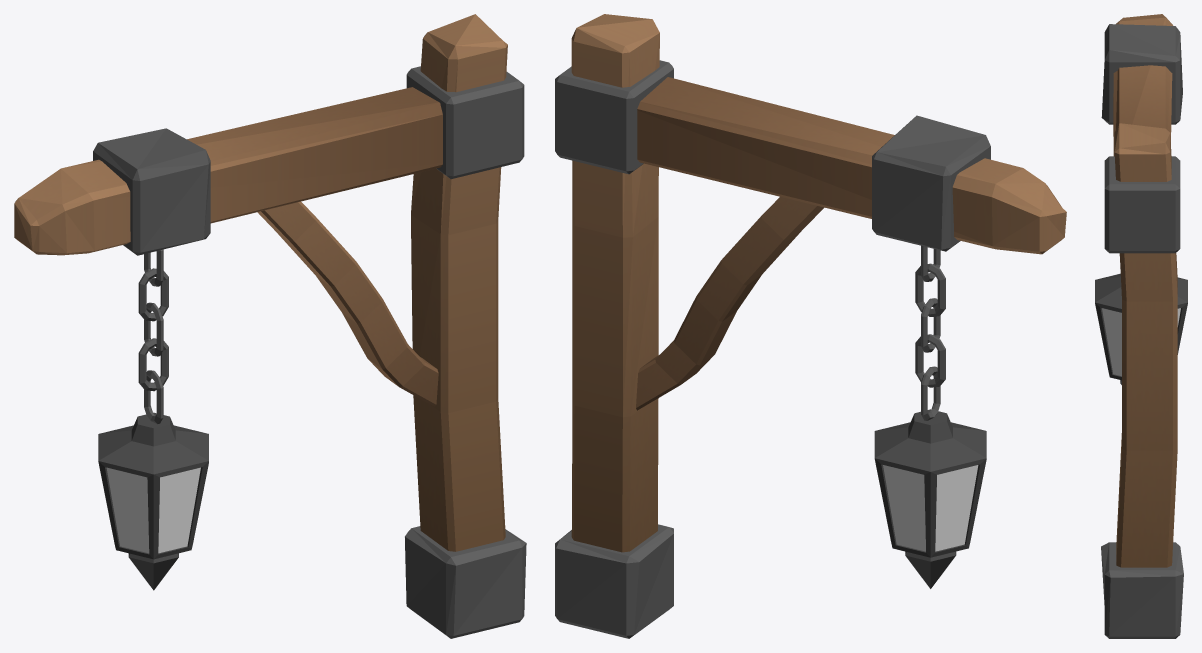
The model's file is ZLP_Build_E_3.FBX.
The picture shows the model from 3 angles, left to right: view 1: azimuth 30°, elevation 25°; view 2: azimuth 150°, elevation 25°; view 3: azimuth 270°, elevation 25°; orthographic projection. The views are drawn at different scales.
Visible parts, largest first — view 1: ZLP_Build_E_3; view 2: ZLP_Build_E_3; view 3: ZLP_Build_E_3.
Part boxes in pixels (left/top/right/bottom): ZLP_Build_E_3: left=14, top=14, right=526, bottom=638; ZLP_Build_E_3: left=555, top=14, right=1066, bottom=638; ZLP_Build_E_3: left=1095, top=14, right=1187, bottom=638.
Size of the model in its own units: 118 by 137 by 23.42.
